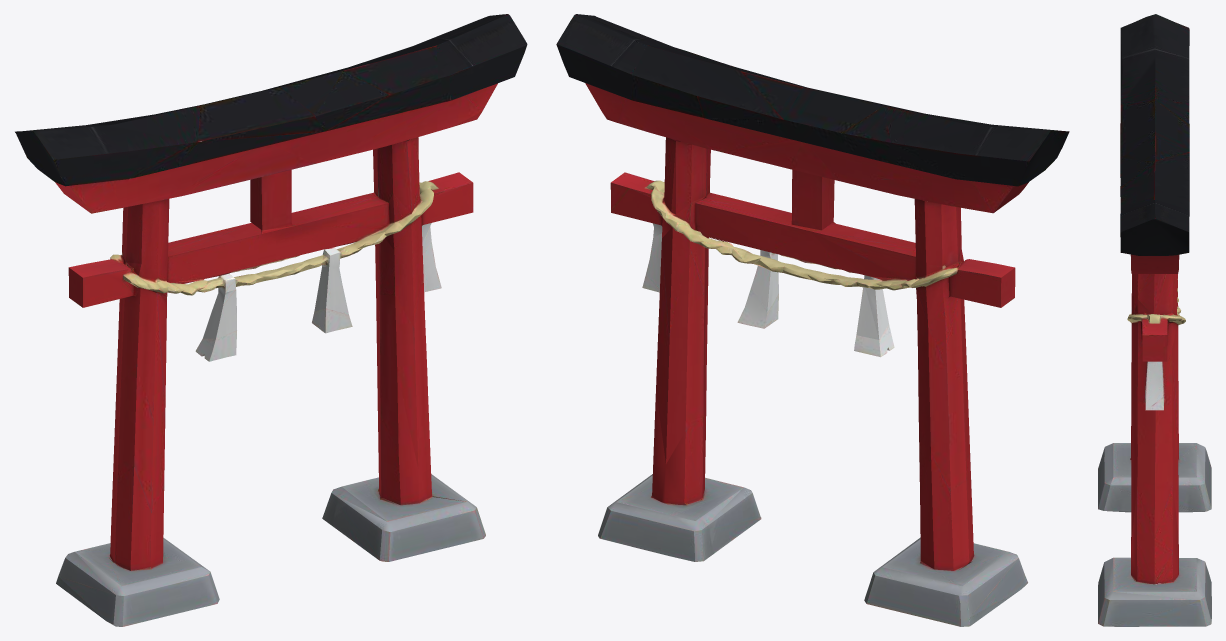
Rendered from torii.glb.
3 views of the same model, side by side, from view 1: azimuth 30°, elevation 25°; view 2: azimuth 150°, elevation 25°; view 3: azimuth 270°, elevation 25° (orthographic). The views are drawn at different scales.
Parts seen in each view (by area): view 1: torii; view 2: torii; view 3: torii.
Boxes of the visible parts, x1,y1,x2,y2 form: torii: [15, 14, 527, 626]; torii: [556, 14, 1069, 626]; torii: [1098, 14, 1211, 626].
Bounding box in the file's own units: 5.08 × 5 × 1.19.
1 material, 1 textured.
